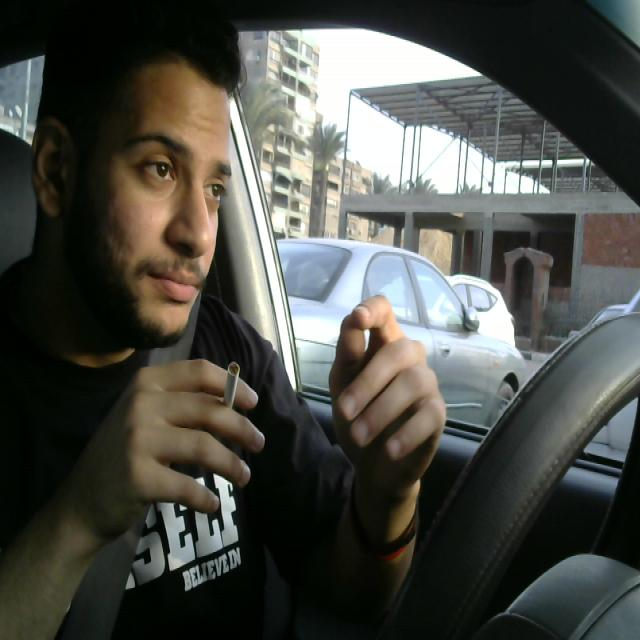smoking: (212, 355, 250, 443)
